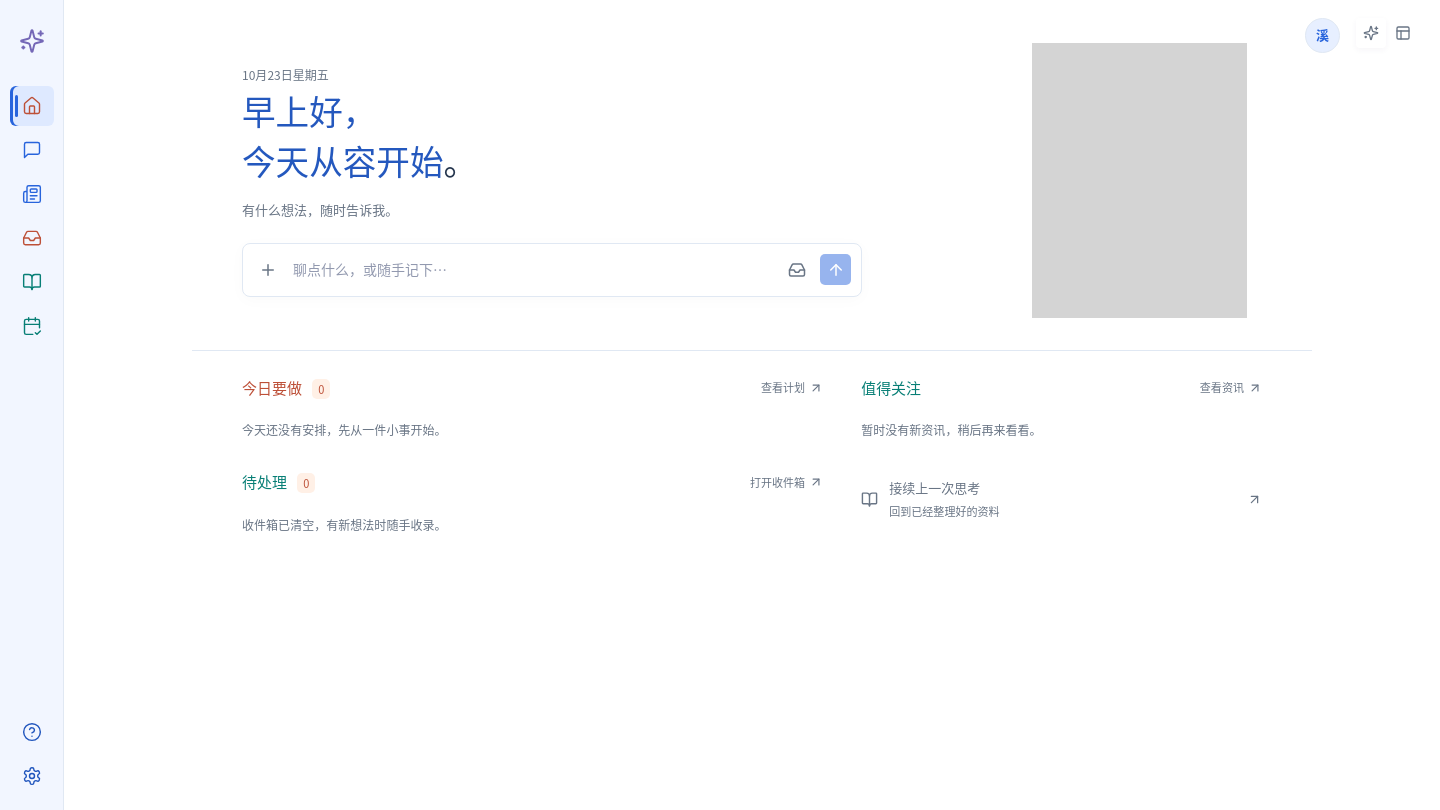
Test: App 设置 overlay preserves page and keyboard navigation selects panels
Step 1. Click the link named "设置" → (32, 776), box [22,766,42,786]
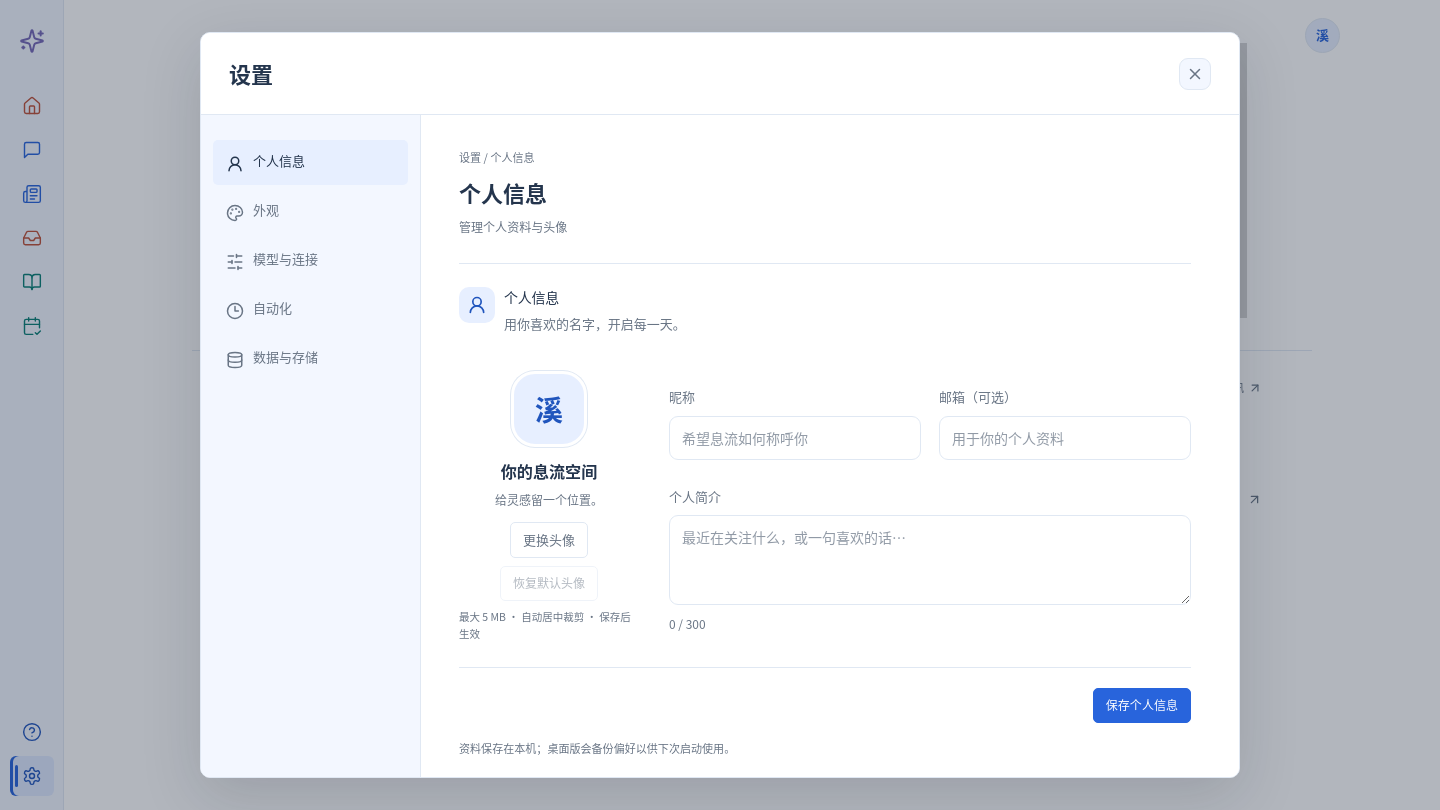
Check: the dialog "设置" is shown
Step 2. Click the tab "个人信息" → (310, 162), box [213,140,408,185]
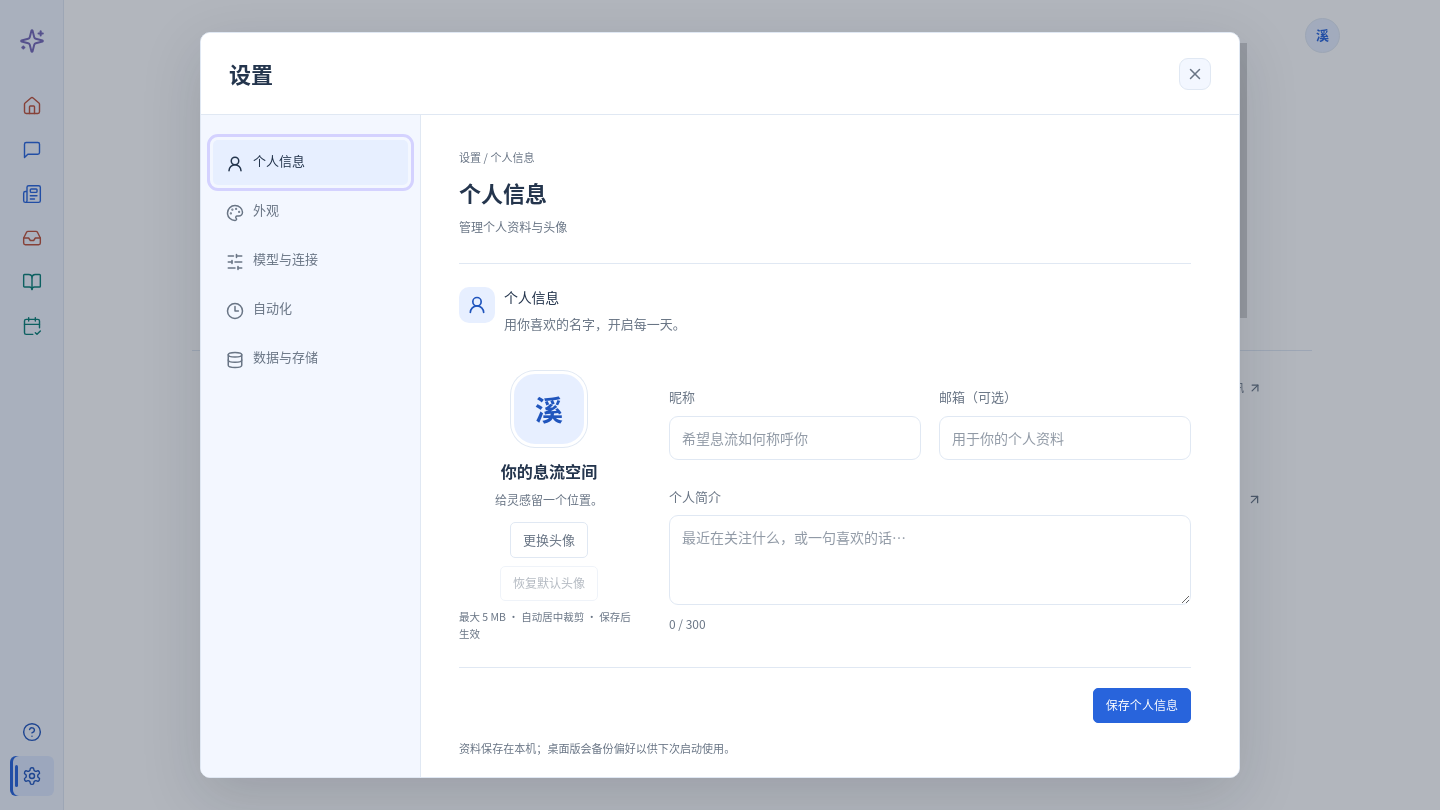
Step 3. Press Arrowright
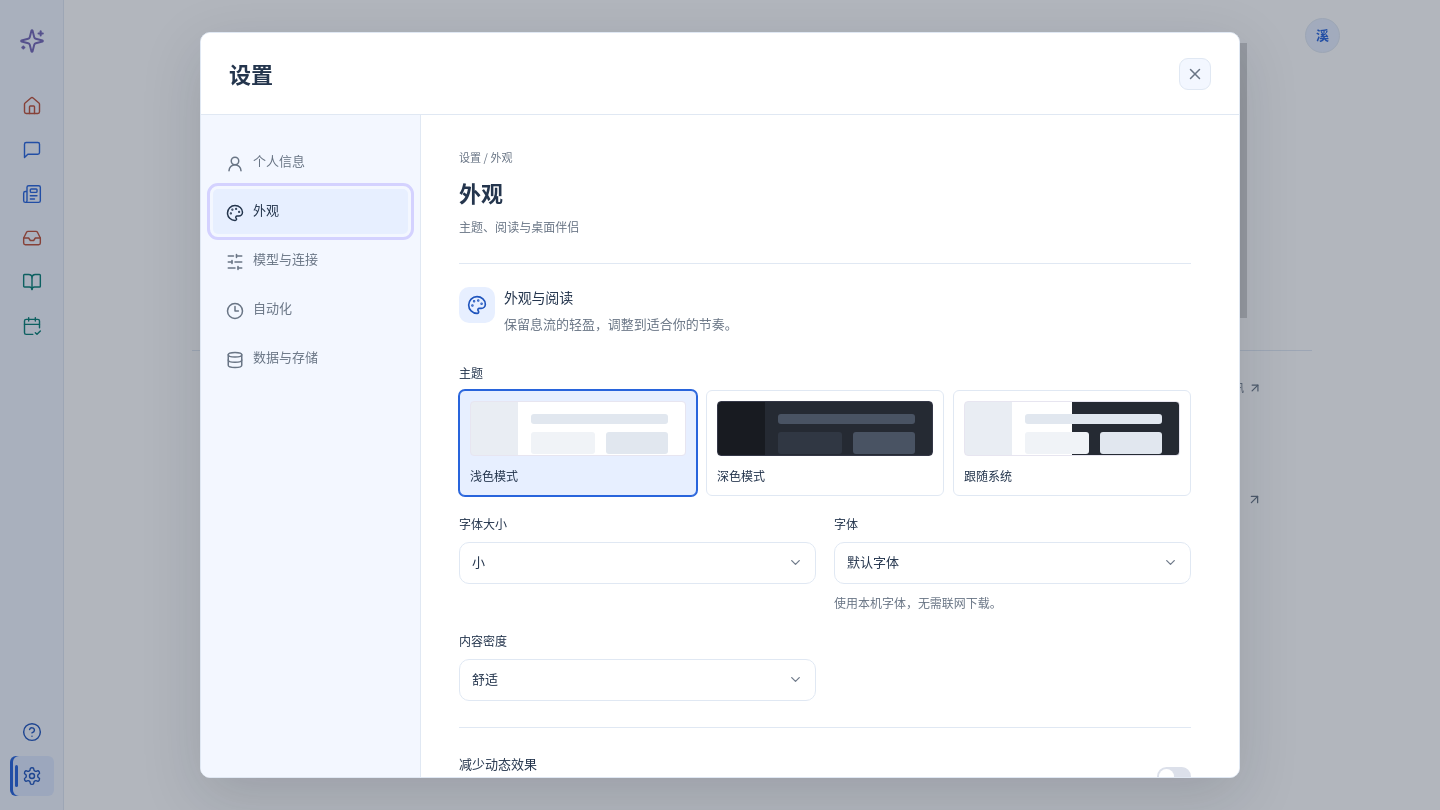
Check: the panel "外观" is shown, box [421,115,1239,777]
Step 4. Press End
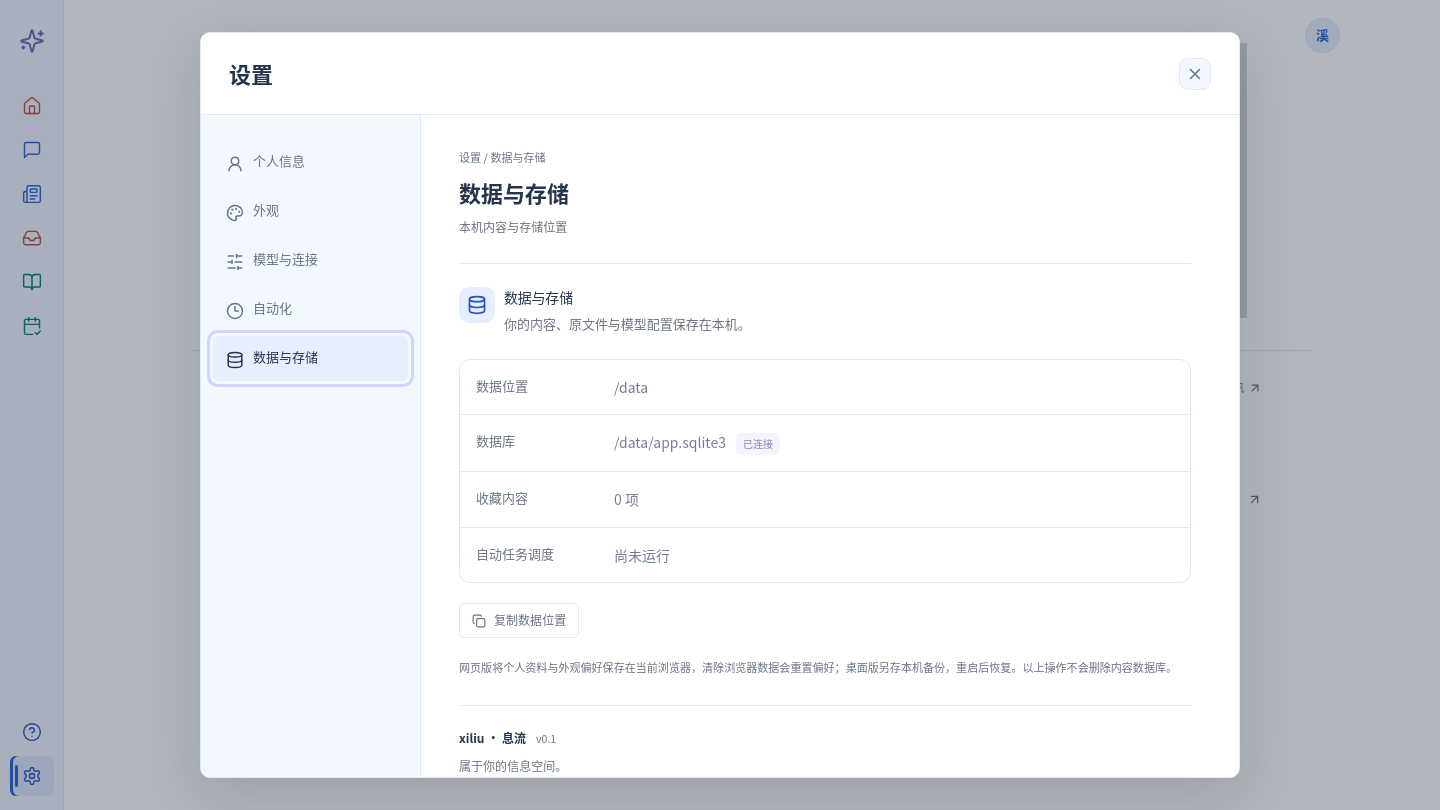
Check: the panel "数据与存储" is shown, box [421,115,1239,777]
Step 5. Press Home
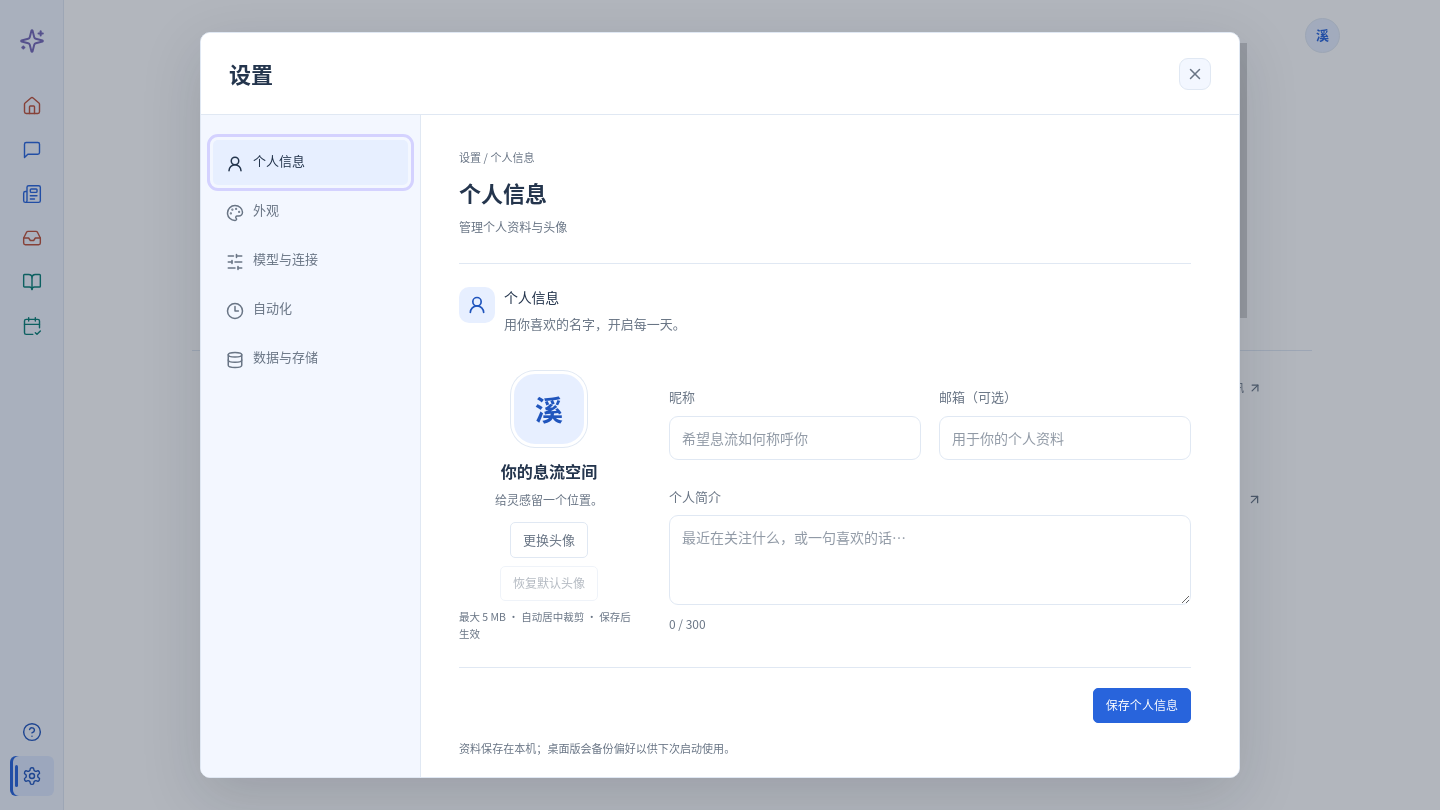
Check: the panel "个人信息" is shown, box [421,115,1239,777]
Step 6. Click the button named "关闭设置" → (1195, 74), box [1179,58,1211,90]
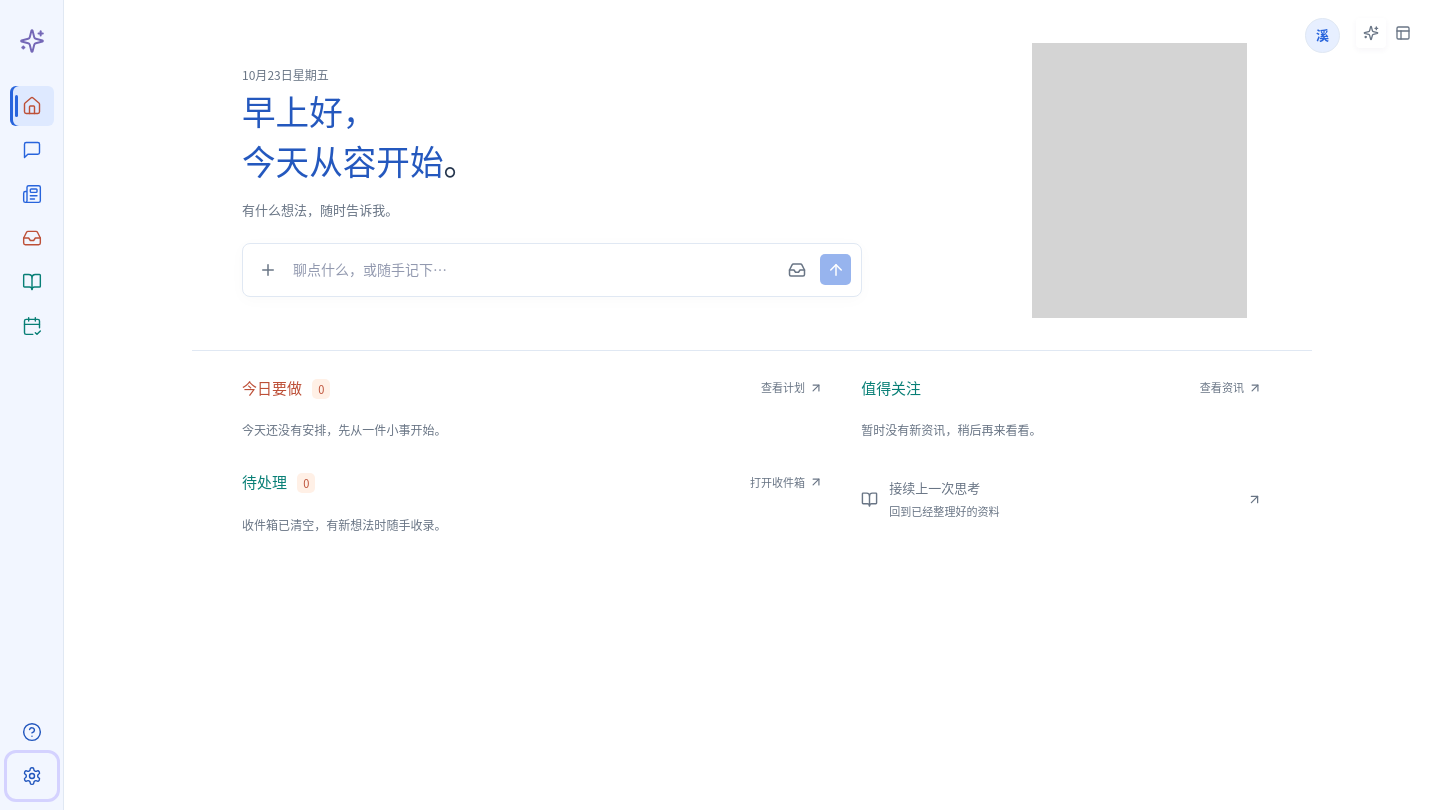
Check: the dialog is gone
